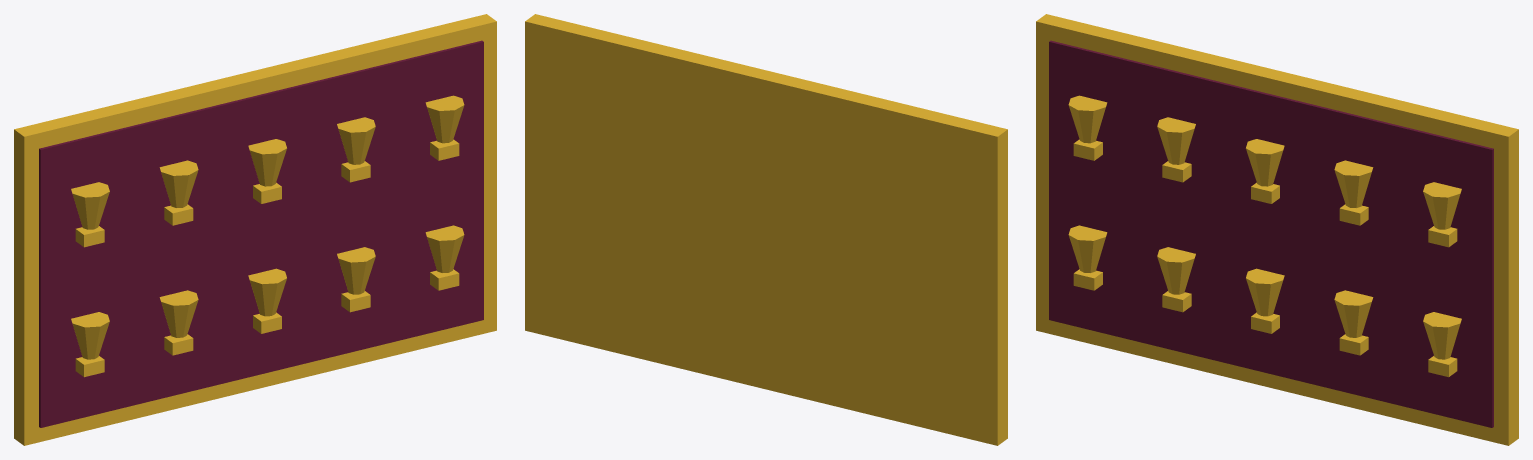
The model's file is nephew_frame.glb.
The picture shows the model from 3 angles, left to right: view 1: azimuth 30°, elevation 25°; view 2: azimuth 150°, elevation 25°; view 3: azimuth 330°, elevation 25°; orthographic projection.
Visible parts, largest first — view 1: back_frame_velvet, frame_frame_gold, cup_frame_gold; view 2: frame_frame_gold; view 3: back_frame_velvet, frame_frame_gold, cup_frame_gold.
Boxes of the visible parts, x1=… form: back_frame_velvet: x1=39, y1=40, x2=483, y2=427; frame_frame_gold: x1=14, y1=14, x2=496, y2=445; cup_frame_gold: x1=71, y1=95, x2=464, y2=377; frame_frame_gold: x1=525, y1=14, x2=1007, y2=445; back_frame_velvet: x1=1049, y1=40, x2=1493, y2=427; frame_frame_gold: x1=1036, y1=14, x2=1518, y2=445; cup_frame_gold: x1=1068, y1=95, x2=1461, y2=377.
Size of the model in its own units: 1.6 by 1 by 0.16.
